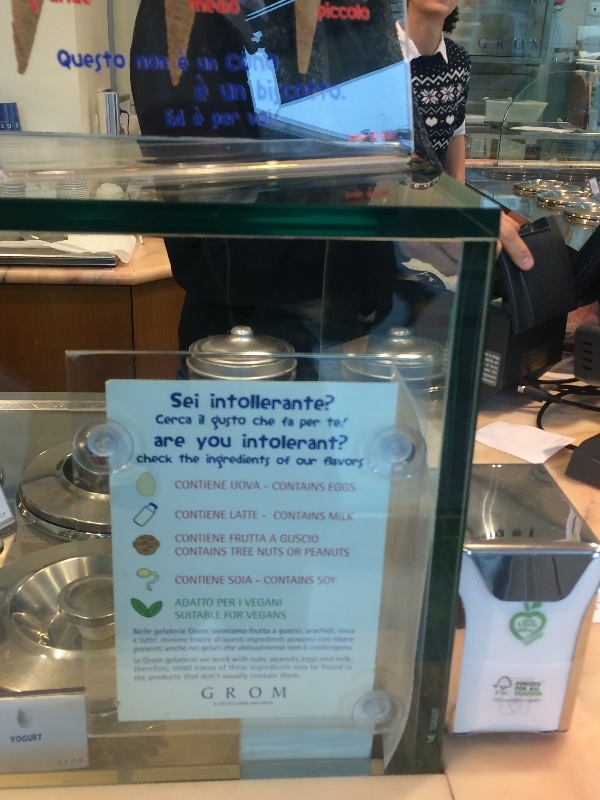text: (145, 628, 160, 685), (161, 628, 176, 685), (177, 628, 192, 685), (193, 628, 208, 685), (209, 628, 224, 685), (225, 628, 240, 685), (241, 628, 256, 685), (257, 628, 272, 685), (273, 628, 288, 685), (289, 628, 304, 685), (305, 628, 320, 685), (321, 628, 336, 685), (337, 628, 352, 685), (133, 628, 144, 685), (257, 76, 272, 110), (273, 76, 288, 110), (289, 76, 304, 110), (305, 76, 320, 110), (321, 76, 336, 110), (485, 351, 496, 387), (65, 48, 80, 74), (81, 48, 96, 74), (97, 48, 112, 74), (337, 76, 347, 110), (113, 48, 126, 74), (194, 82, 208, 106), (257, 107, 272, 129), (321, 2, 336, 24), (337, 2, 352, 24), (353, 2, 368, 24), (225, 53, 240, 74), (241, 53, 256, 74), (257, 53, 272, 74), (225, 83, 240, 104), (225, 112, 240, 132), (193, 105, 204, 132), (225, 393, 240, 412), (241, 393, 256, 412), (257, 393, 272, 412), (273, 393, 288, 412), (289, 393, 304, 412), (305, 393, 320, 412), (163, 108, 176, 129), (209, 453, 224, 471), (225, 453, 240, 471), (241, 453, 256, 471), (257, 433, 272, 451), (273, 433, 288, 451), (289, 433, 304, 451), (305, 433, 320, 451), (321, 433, 336, 451), (210, 393, 224, 412), (321, 393, 335, 412), (211, 112, 224, 132), (225, 415, 240, 432), (145, 55, 160, 72), (257, 453, 271, 471), (242, 433, 256, 451), (177, 393, 192, 409), (209, 436, 224, 452), (210, 415, 224, 432), (529, 681, 543, 698), (353, 628, 357, 685), (177, 57, 192, 72), (337, 433, 349, 451), (257, 413, 272, 427), (273, 686, 288, 700), (56, 48, 64, 74), (196, 57, 208, 74), (516, 681, 528, 698), (247, 107, 256, 129), (498, 37, 512, 51), (337, 457, 352, 470), (161, 435, 176, 448), (177, 414, 193, 426), (196, 436, 208, 452), (177, 108, 186, 129), (161, 414, 176, 426), (145, 453, 160, 465), (337, 481, 352, 493), (241, 510, 256, 522), (305, 418, 321, 429), (161, 55, 171, 72), (209, 57, 219, 74), (323, 457, 336, 470), (227, 687, 240, 700), (515, 38, 528, 51), (178, 453, 192, 465), (241, 480, 256, 491), (273, 481, 288, 492), (289, 481, 304, 492), (305, 481, 320, 492), (177, 509, 192, 520), (193, 509, 208, 520), (209, 509, 224, 520), (177, 533, 192, 544), (193, 533, 208, 544), (209, 533, 224, 544), (289, 511, 304, 522), (305, 511, 320, 522), (241, 533, 256, 544), (305, 547, 320, 558), (321, 547, 336, 558), (321, 576, 336, 587), (177, 575, 192, 586), (193, 575, 208, 586), (209, 575, 224, 586), (17, 734, 32, 745), (518, 618, 528, 634), (529, 618, 539, 634), (353, 457, 365, 470), (274, 511, 288, 522), (258, 547, 272, 558), (273, 107, 280, 129), (135, 55, 144, 72), (177, 480, 192, 490), (193, 480, 208, 490), (209, 480, 224, 490), (177, 546, 192, 556), (193, 546, 208, 556), (209, 546, 224, 556), (337, 512, 352, 522), (289, 534, 304, 544), (305, 534, 320, 544), (177, 598, 192, 608), (193, 598, 208, 608), (177, 611, 192, 621), (193, 611, 208, 621), (257, 610, 272, 620), (241, 83, 248, 104), (337, 417, 349, 429), (161, 453, 173, 465), (497, 351, 501, 387), (289, 547, 302, 558), (337, 547, 350, 558), (241, 547, 255, 557), (273, 610, 287, 620), (273, 576, 288, 585), (289, 576, 304, 585), (257, 599, 272, 608), (225, 611, 240, 620), (228, 575, 240, 586), (241, 575, 253, 586), (305, 457, 318, 467), (177, 435, 187, 448), (534, 39, 544, 52), (273, 53, 279, 74), (218, 83, 224, 104), (257, 533, 268, 544), (273, 547, 284, 558), (276, 456, 288, 466), (230, 510, 240, 522), (209, 611, 221, 621), (225, 436, 232, 452), (230, 533, 240, 544), (225, 598, 236, 608), (199, 414, 208, 426), (327, 417, 336, 429), (244, 599, 256, 608), (241, 415, 247, 432), (230, 547, 240, 557), (246, 610, 256, 620), (231, 480, 240, 491), (33, 734, 42, 745), (170, 393, 176, 409), (193, 393, 199, 409), (193, 453, 201, 465), (136, 453, 144, 465), (328, 481, 336, 493), (281, 415, 288, 428), (279, 534, 288, 544), (305, 576, 315, 585), (202, 686, 208, 701), (497, 697, 512, 703), (513, 697, 528, 703), (481, 37, 488, 49), (263, 576, 272, 585), (273, 599, 282, 608), (296, 457, 304, 467), (154, 435, 160, 448), (250, 687, 256, 700), (257, 687, 263, 700), (225, 701, 240, 706), (241, 701, 256, 706), (257, 701, 272, 706), (529, 697, 541, 703), (329, 512, 336, 522), (10, 734, 16, 745), (317, 2, 320, 24), (497, 690, 508, 696), (289, 415, 294, 428), (155, 414, 160, 426), (218, 598, 224, 608), (209, 686, 213, 701), (252, 413, 256, 427), (257, 480, 262, 491), (321, 511, 326, 522), (273, 534, 278, 544), (209, 598, 214, 608), (214, 701, 224, 706), (300, 418, 304, 429), (321, 481, 325, 492), (369, 2, 371, 24), (273, 413, 276, 427), (206, 453, 208, 471), (353, 481, 356, 493), (317, 576, 320, 587), (257, 510, 259, 522), (225, 509, 227, 520), (289, 456, 291, 466), (225, 480, 227, 490), (225, 546, 227, 556), (353, 512, 355, 522), (241, 611, 243, 620), (479, 37, 480, 49), (494, 697, 496, 703), (175, 509, 176, 520), (175, 533, 176, 544), (225, 533, 226, 544), (287, 547, 288, 558), (337, 576, 338, 587), (175, 575, 176, 586), (225, 575, 226, 586), (175, 480, 176, 490), (175, 546, 176, 556), (175, 611, 176, 621), (239, 598, 240, 607), (241, 598, 242, 607), (495, 690, 496, 696), (273, 701, 274, 706)
